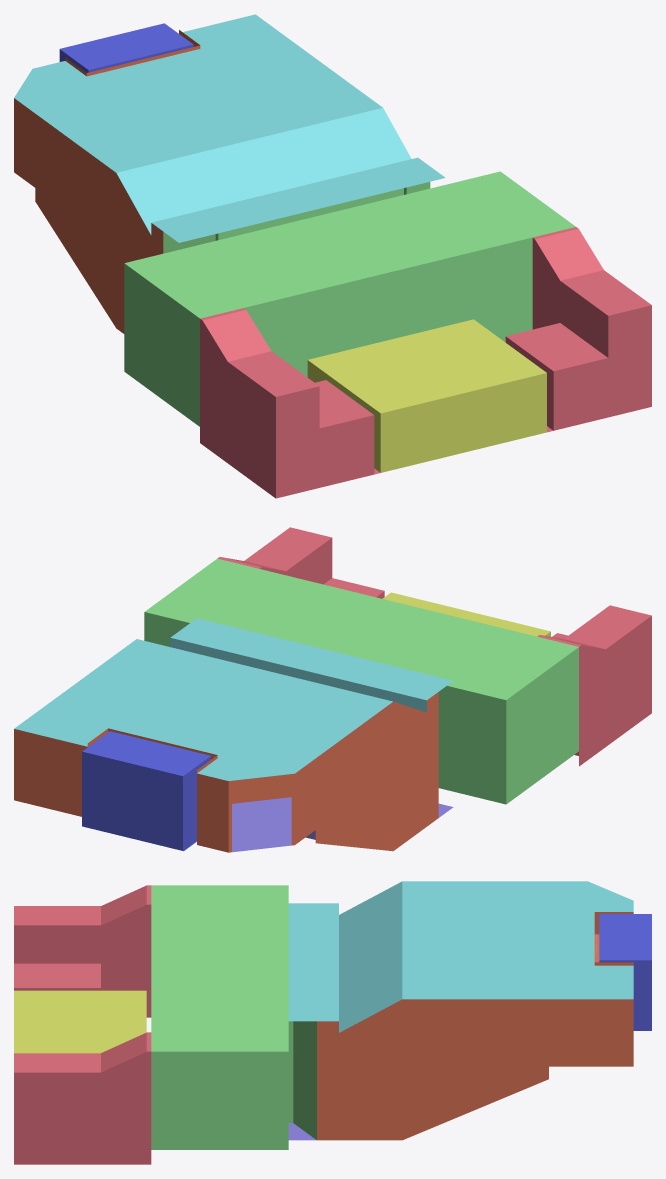
The model's file is Theater_0620.fbx.
The picture shows the model from 3 angles, top to bottom: view 1: azimuth 30°, elevation 25°; view 2: azimuth 150°, elevation 25°; view 3: azimuth 270°, elevation 25°; orthographic projection. The views are drawn at different scales.
Visible parts, largest first — view 1: AD_Ceiling, ST_Back_Wall1, ST_Ceiling, ST_Wall_Back, AD_Wall_Side1.001, GR_Ceiling, GR_Wall2, ST_Portal_Side, ST_Back_Ceiling, Consoleroom_Ceiling, ST_Portal_Head, GR_Wall1 (+1 smaller); view 2: AD_Ceiling, ST_Ceiling, AD_Wall_Side1.001, ST_Portal_Side, ST_Back_Wall1, Consoleroom_Wall_Inner, AD_Wall_Side1, ST_Back_Ceiling, AD_Entrance, Consoleroom_Ceiling, AD_Floor_T, GR_Ceiling (+2 smaller); view 3: AD_Ceiling, AD_Wall_Side1, ST_Ceiling, ST_Back_Wall1, ST_Portal_Side, GR_Ceiling, ST_Back_Ceiling, Consoleroom_Ceiling, Consoleroom_Wall_Inner, AD_Consoleroom_Wall.
Boxes of the visible parts, x1=… form: AD_Ceiling: x1=14, y1=14, x2=445, y2=242; ST_Back_Wall1: x1=200, y1=238, x2=651, y2=498; ST_Ceiling: x1=124, y1=171, x2=575, y2=318; ST_Wall_Back: x1=244, y1=237, x2=532, y2=377; AD_Wall_Side1.001: x1=14, y1=98, x2=163, y2=333; GR_Ceiling: x1=308, y1=319, x2=546, y2=413; GR_Wall2: x1=380, y1=373, x2=546, y2=472; ST_Portal_Side: x1=124, y1=182, x2=430, y2=426; ST_Back_Ceiling: x1=200, y1=227, x2=651, y2=396; Consoleroom_Ceiling: x1=60, y1=23, x2=193, y2=69; ST_Portal_Head: x1=218, y1=188, x2=403, y2=239; GR_Wall1: x1=307, y1=360, x2=380, y2=472; AD_Ceiling: x1=14, y1=618, x2=453, y2=780; ST_Ceiling: x1=145, y1=558, x2=578, y2=699; AD_Wall_Side1.001: x1=295, y1=692, x2=438, y2=851; ST_Portal_Side: x1=144, y1=612, x2=578, y2=804; ST_Back_Wall1: x1=259, y1=538, x2=651, y2=766; Consoleroom_Wall_Inner: x1=82, y1=751, x2=210, y2=850; AD_Wall_Side1: x1=14, y1=729, x2=87, y2=816; ST_Back_Ceiling: x1=217, y1=527, x2=651, y2=649; AD_Entrance: x1=197, y1=773, x2=294, y2=852; Consoleroom_Ceiling: x1=82, y1=731, x2=210, y2=775; AD_Floor_T: x1=232, y1=809, x2=315, y2=852; GR_Ceiling: x1=382, y1=592, x2=550, y2=636; AD_Ceiling: x1=288, y1=881, x2=633, y2=1032; AD_Wall_Side1: x1=317, y1=999, x2=633, y2=1140; ST_Ceiling: x1=151, y1=885, x2=288, y2=1051; ST_Back_Wall1: x1=14, y1=904, x2=151, y2=1164; ST_Portal_Side: x1=151, y1=1021, x2=316, y2=1149; GR_Ceiling: x1=14, y1=990, x2=146, y2=1053; ST_Back_Ceiling: x1=14, y1=885, x2=151, y2=1072; Consoleroom_Ceiling: x1=599, y1=914, x2=651, y2=960; Consoleroom_Wall_Inner: x1=599, y1=960, x2=651, y2=1030; AD_Consoleroom_Wall: x1=594, y1=912, x2=633, y2=965.
Bounding box in the file's own units: 1720 × 695 × 2787.
